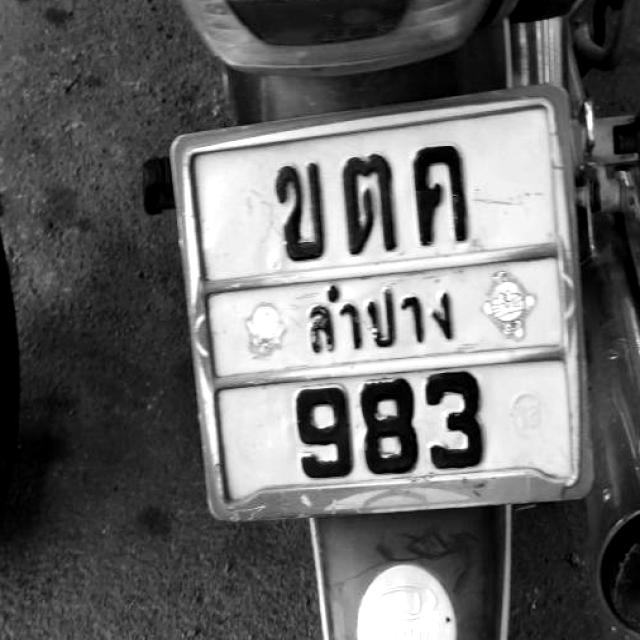letters: (425, 367, 497, 473), (275, 385, 353, 482), (408, 142, 475, 245), (339, 154, 406, 251), (272, 162, 334, 262), (359, 376, 415, 472)
license-plate: (185, 92, 589, 513)
province: (294, 289, 462, 349)
